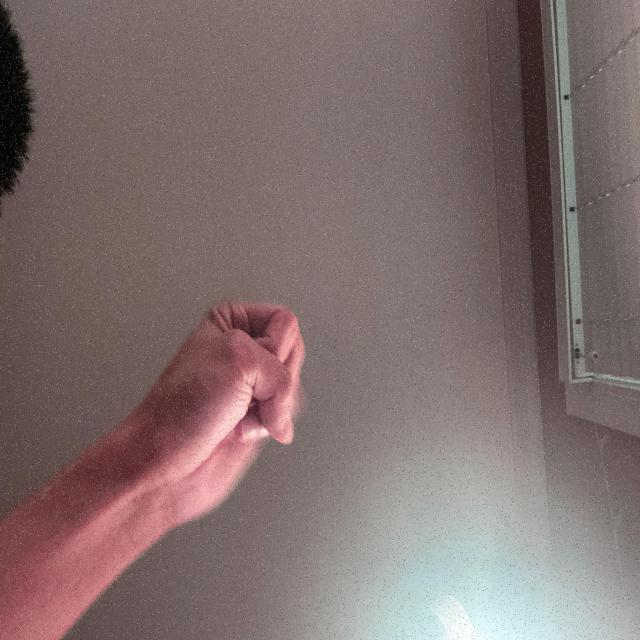J: (380, 433, 557, 640)
